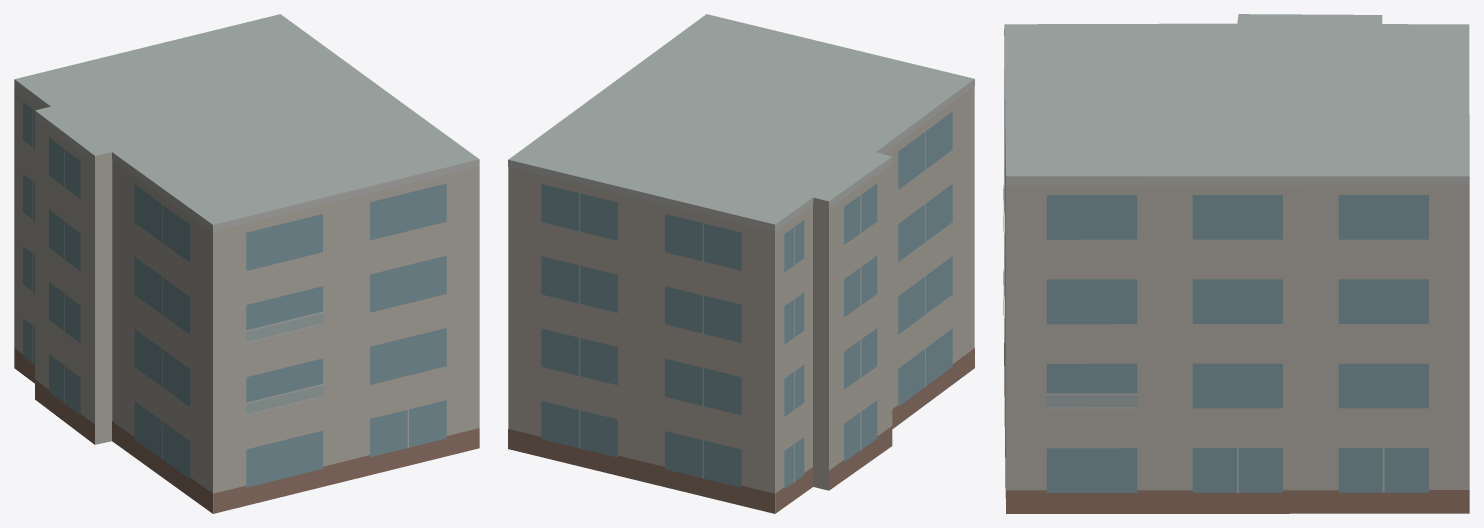
The model's file is survey-upis-32739724.glb.
The picture shows the model from 3 angles, left to right: view 1: azimuth 30°, elevation 25°; view 2: azimuth 150°, elevation 25°; view 3: azimuth 270°, elevation 25°; orthographic projection. The views are drawn at different scales.
Visible parts, largest first — view 1: survey-upis-32739724.tmp; view 2: survey-upis-32739724.tmp; view 3: survey-upis-32739724.tmp.
Part boxes in pixels (<box>): survey-upis-32739724.tmp: <box>14,14,479,513</box>; survey-upis-32739724.tmp: <box>508,14,974,513</box>; survey-upis-32739724.tmp: <box>1003,14,1469,513</box>.
Bounding box in the file's own units: 10.37 × 10 × 12.54.
